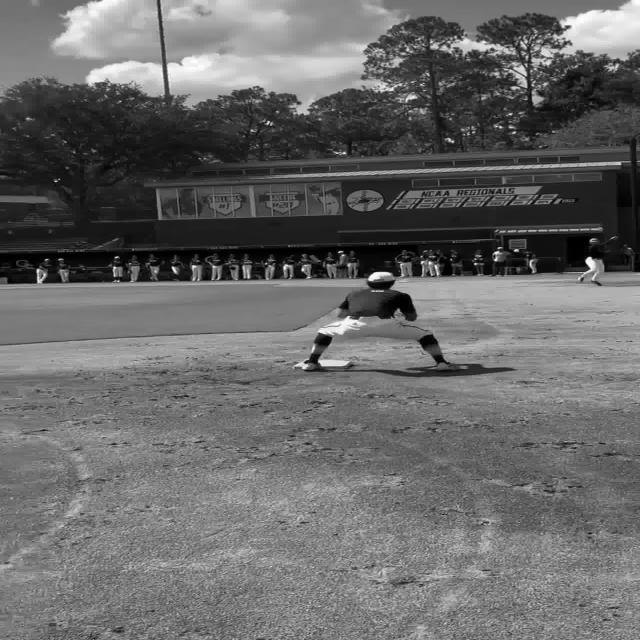base: (318, 359, 353, 370), (293, 361, 305, 369)
baseball: (513, 249, 520, 252)
shoe: (433, 361, 462, 371), (300, 362, 325, 371)
